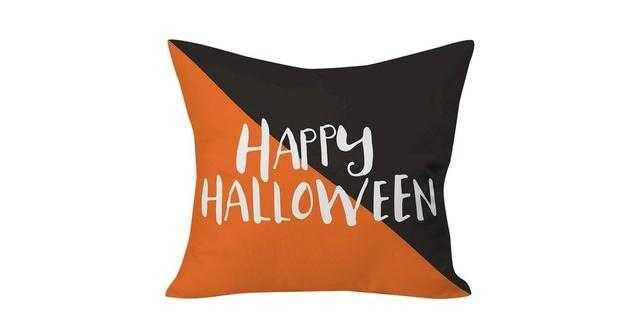pillow: (164, 36, 476, 300)
